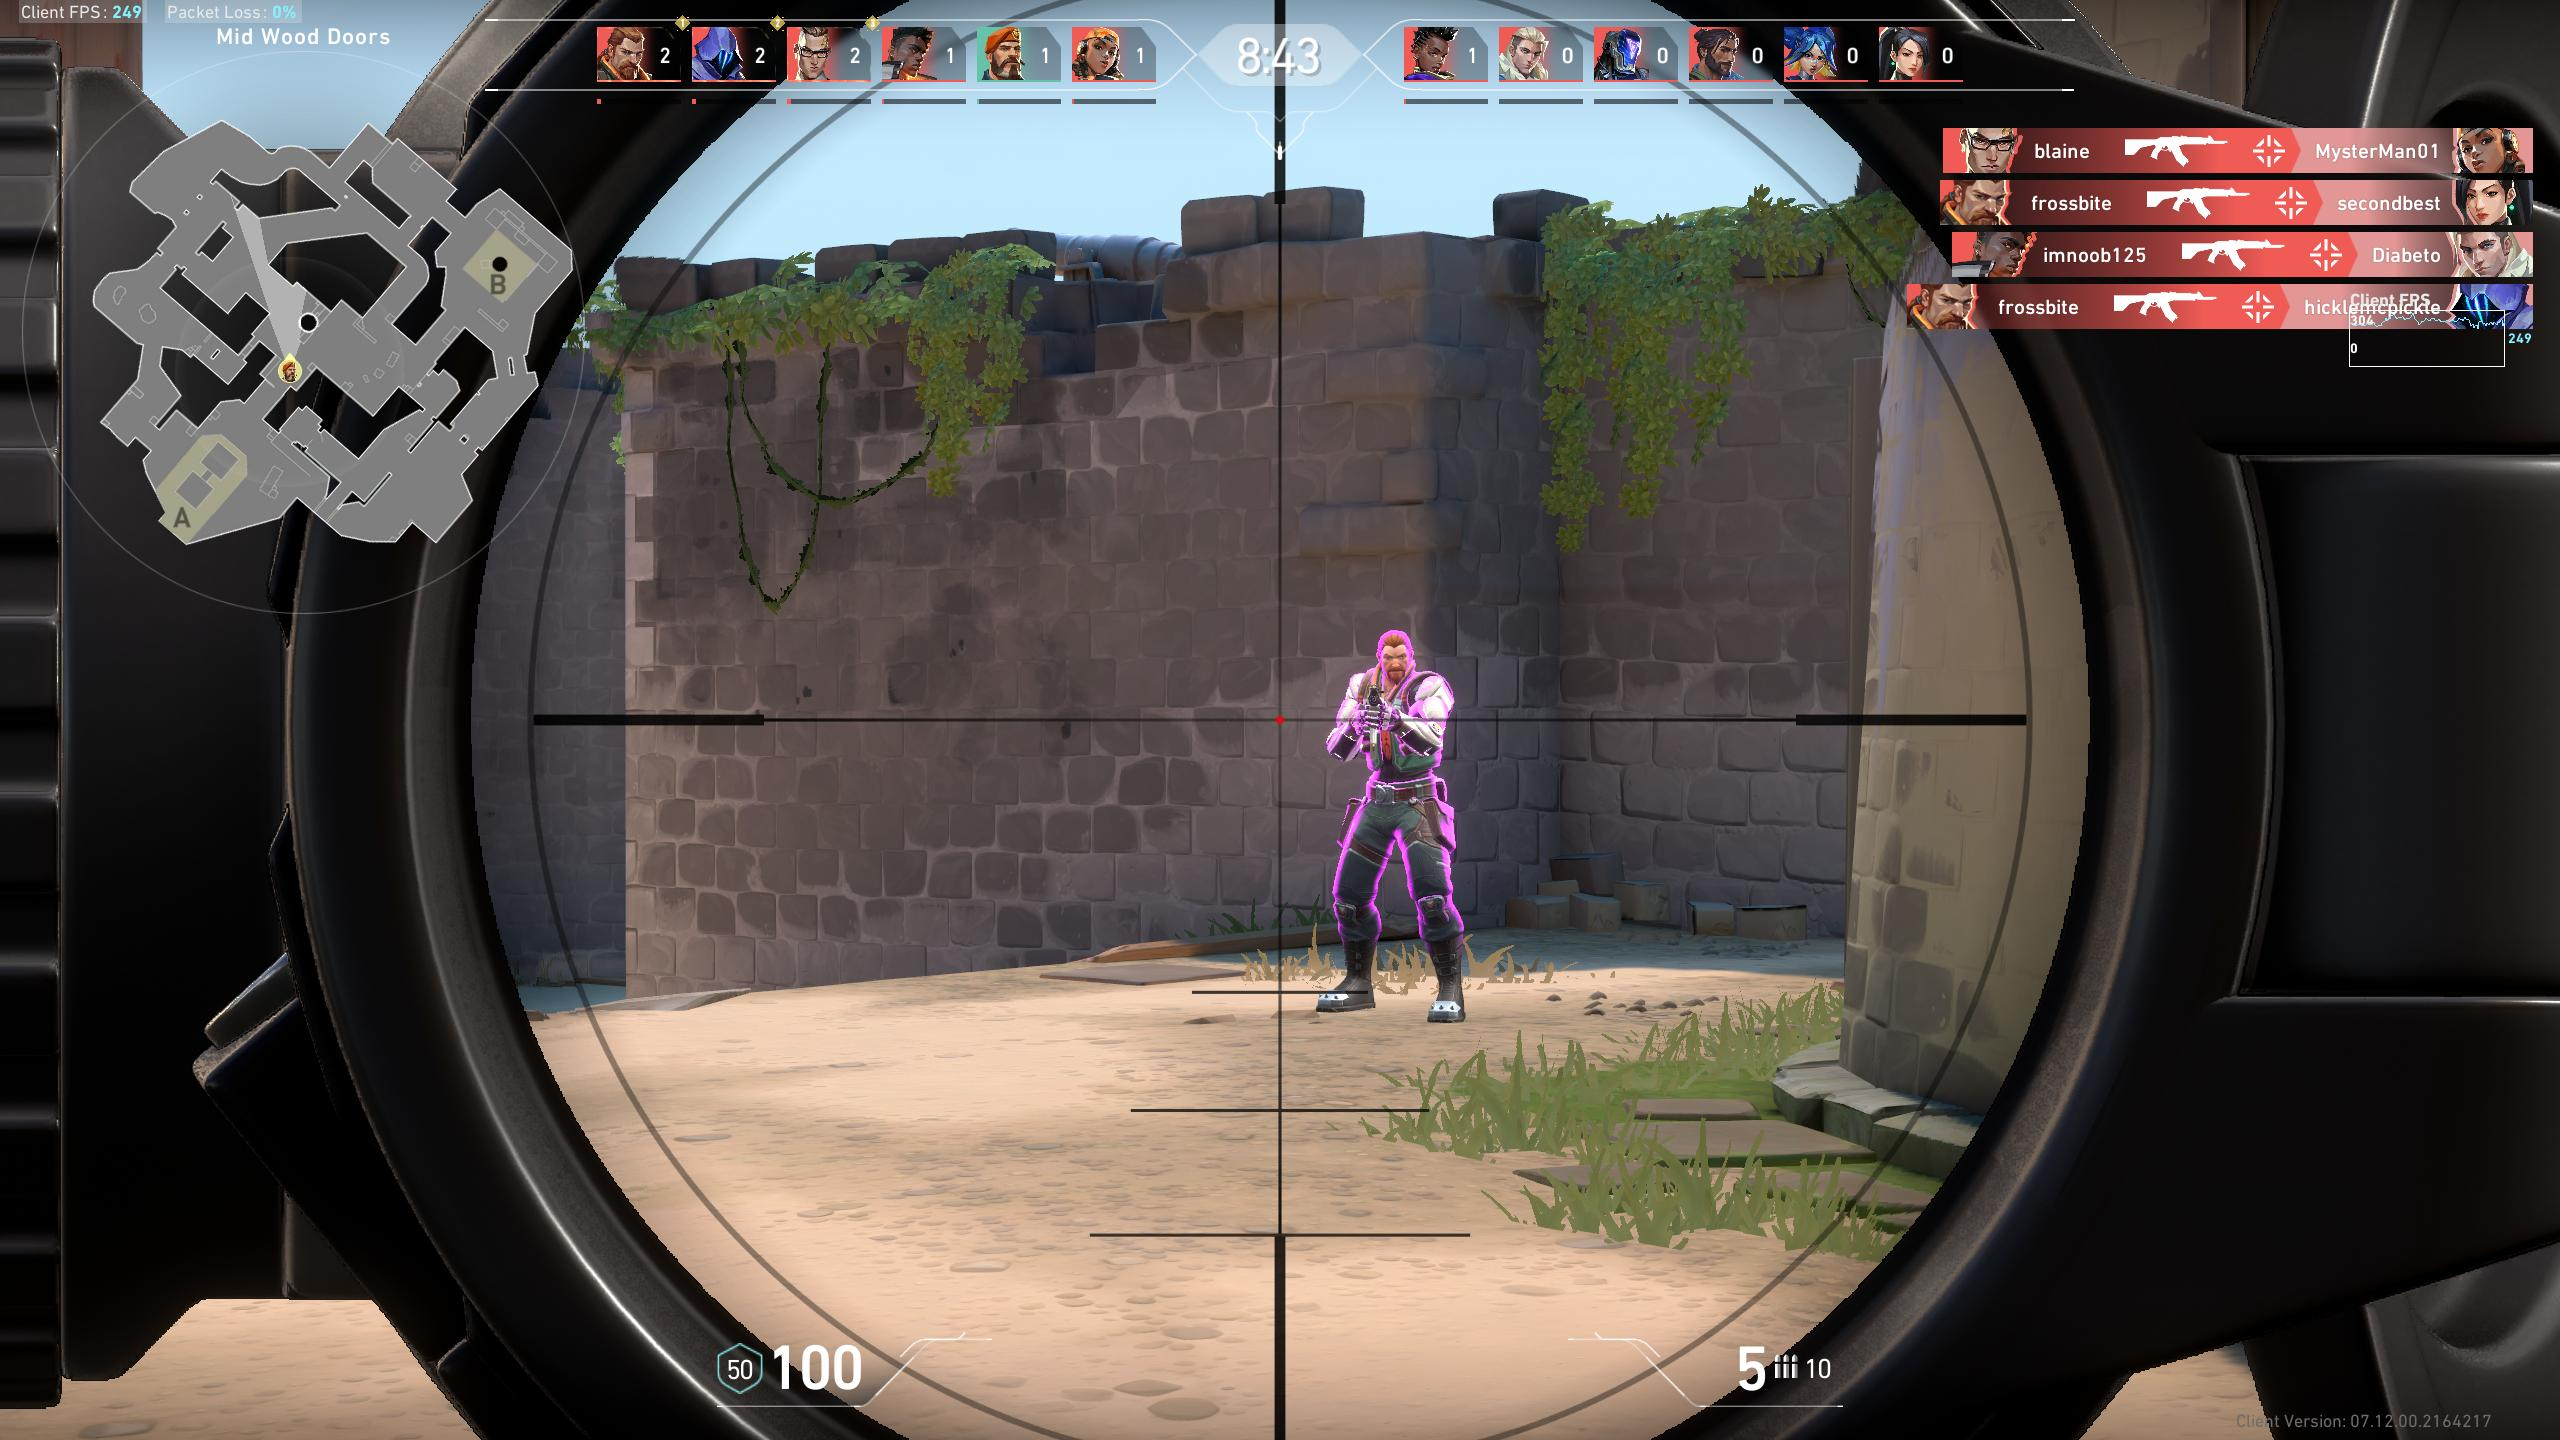enemyBody: (1352, 675, 1458, 804)
enemyHead: (1380, 631, 1424, 686)
